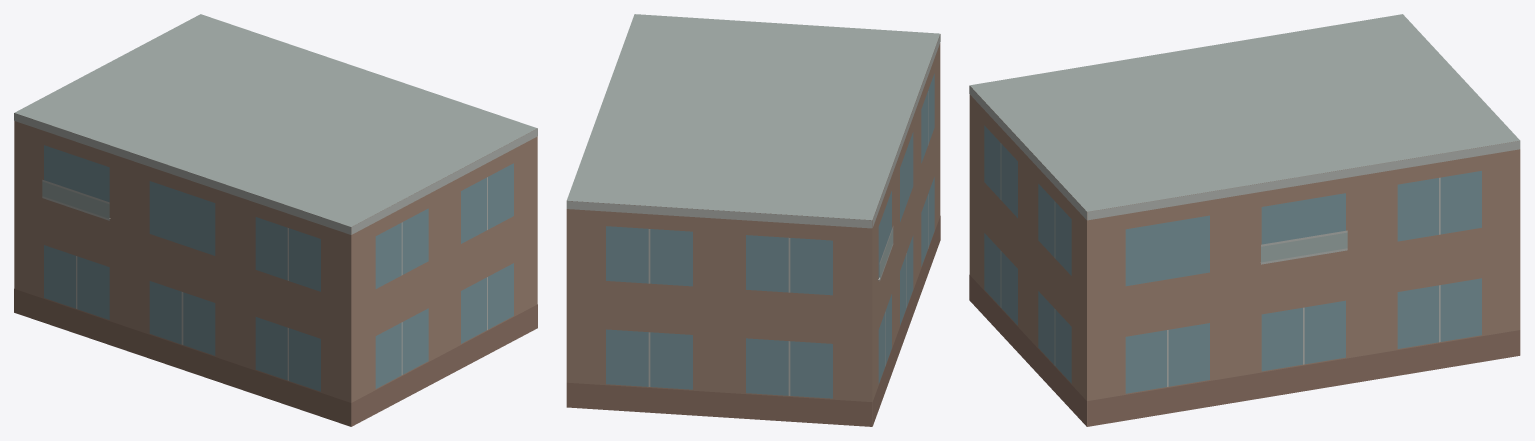
Rendered from survey-upis-32772124.glb.
3 views of the same model, side by side, from view 1: azimuth 30°, elevation 25°; view 2: azimuth 150°, elevation 25°; view 3: azimuth 270°, elevation 25° (orthographic). The views are drawn at different scales.
Parts seen in each view (by area): view 1: survey-upis-32772124.tmp; view 2: survey-upis-32772124.tmp; view 3: survey-upis-32772124.tmp.
Part boxes in pixels (left/top/right/bottom): survey-upis-32772124.tmp: left=14, top=14, right=537, bottom=426; survey-upis-32772124.tmp: left=566, top=14, right=940, bottom=426; survey-upis-32772124.tmp: left=969, top=14, right=1520, bottom=426.
Size of the model in its own units: 12.05 by 6.1 by 14.18.
